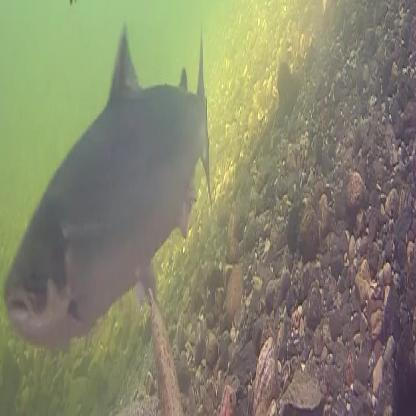salmon: (3, 14, 214, 366)
